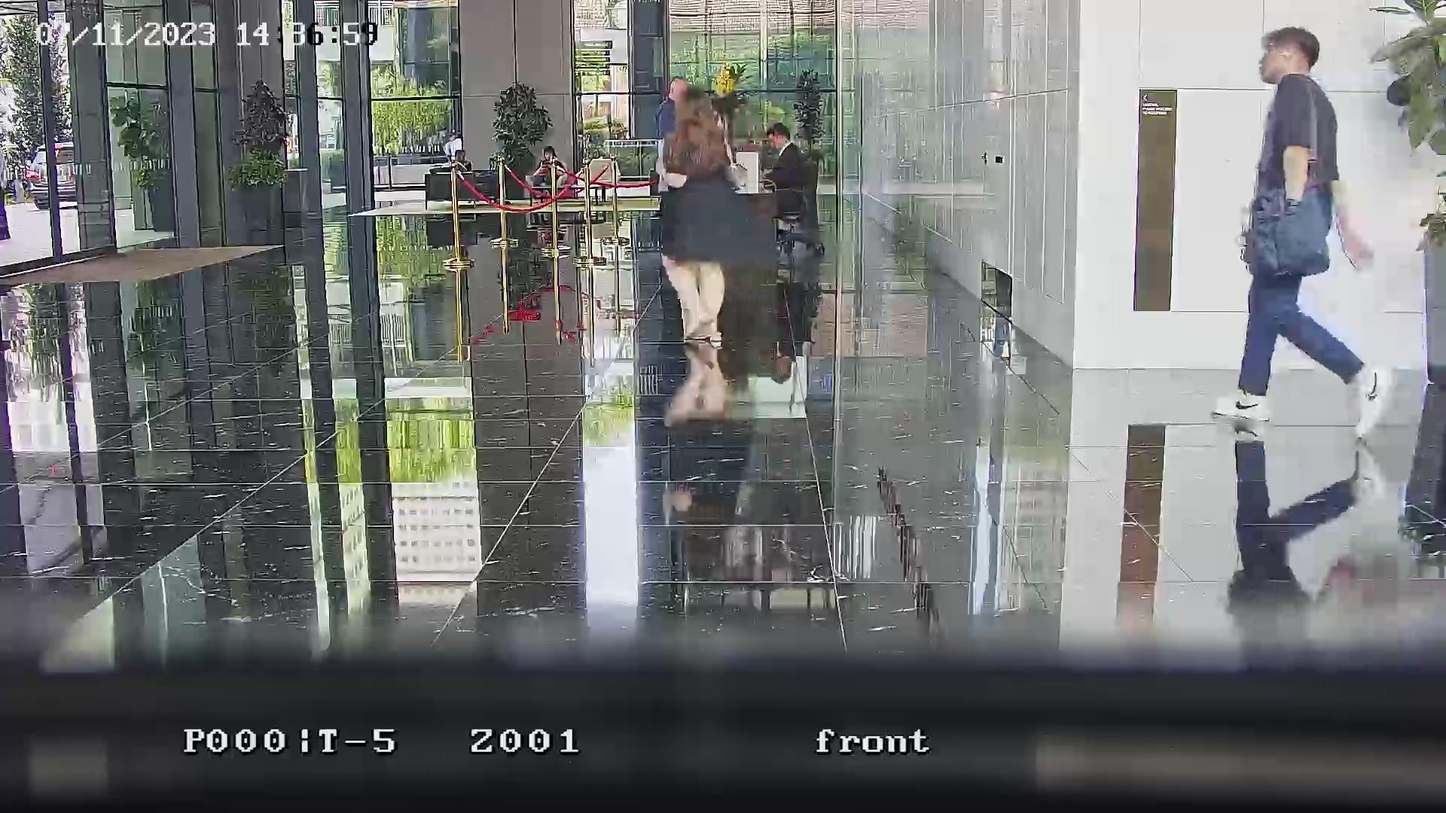person: (1215, 25, 1380, 429), (654, 78, 743, 351), (1399, 218, 1445, 553), (760, 123, 807, 211), (532, 146, 567, 200)
